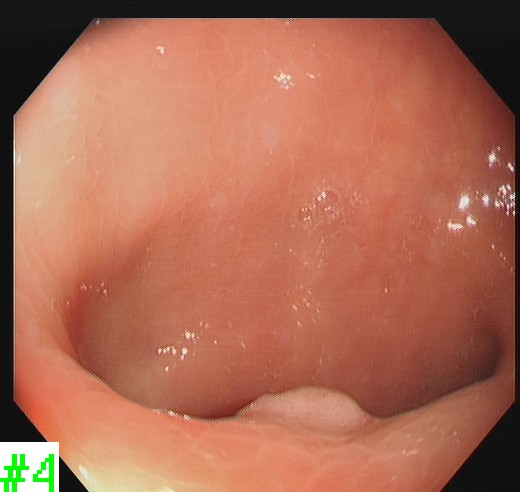adenoma: (231, 382, 379, 434)
